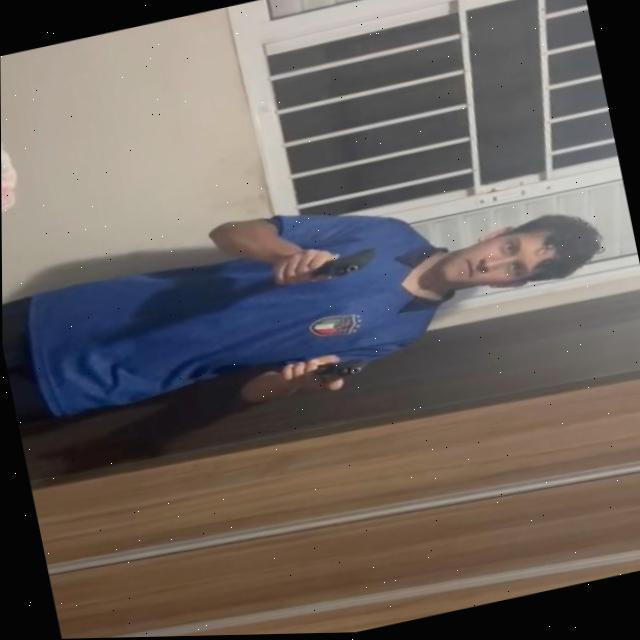gun: (313, 248, 382, 284), (316, 354, 376, 384)
